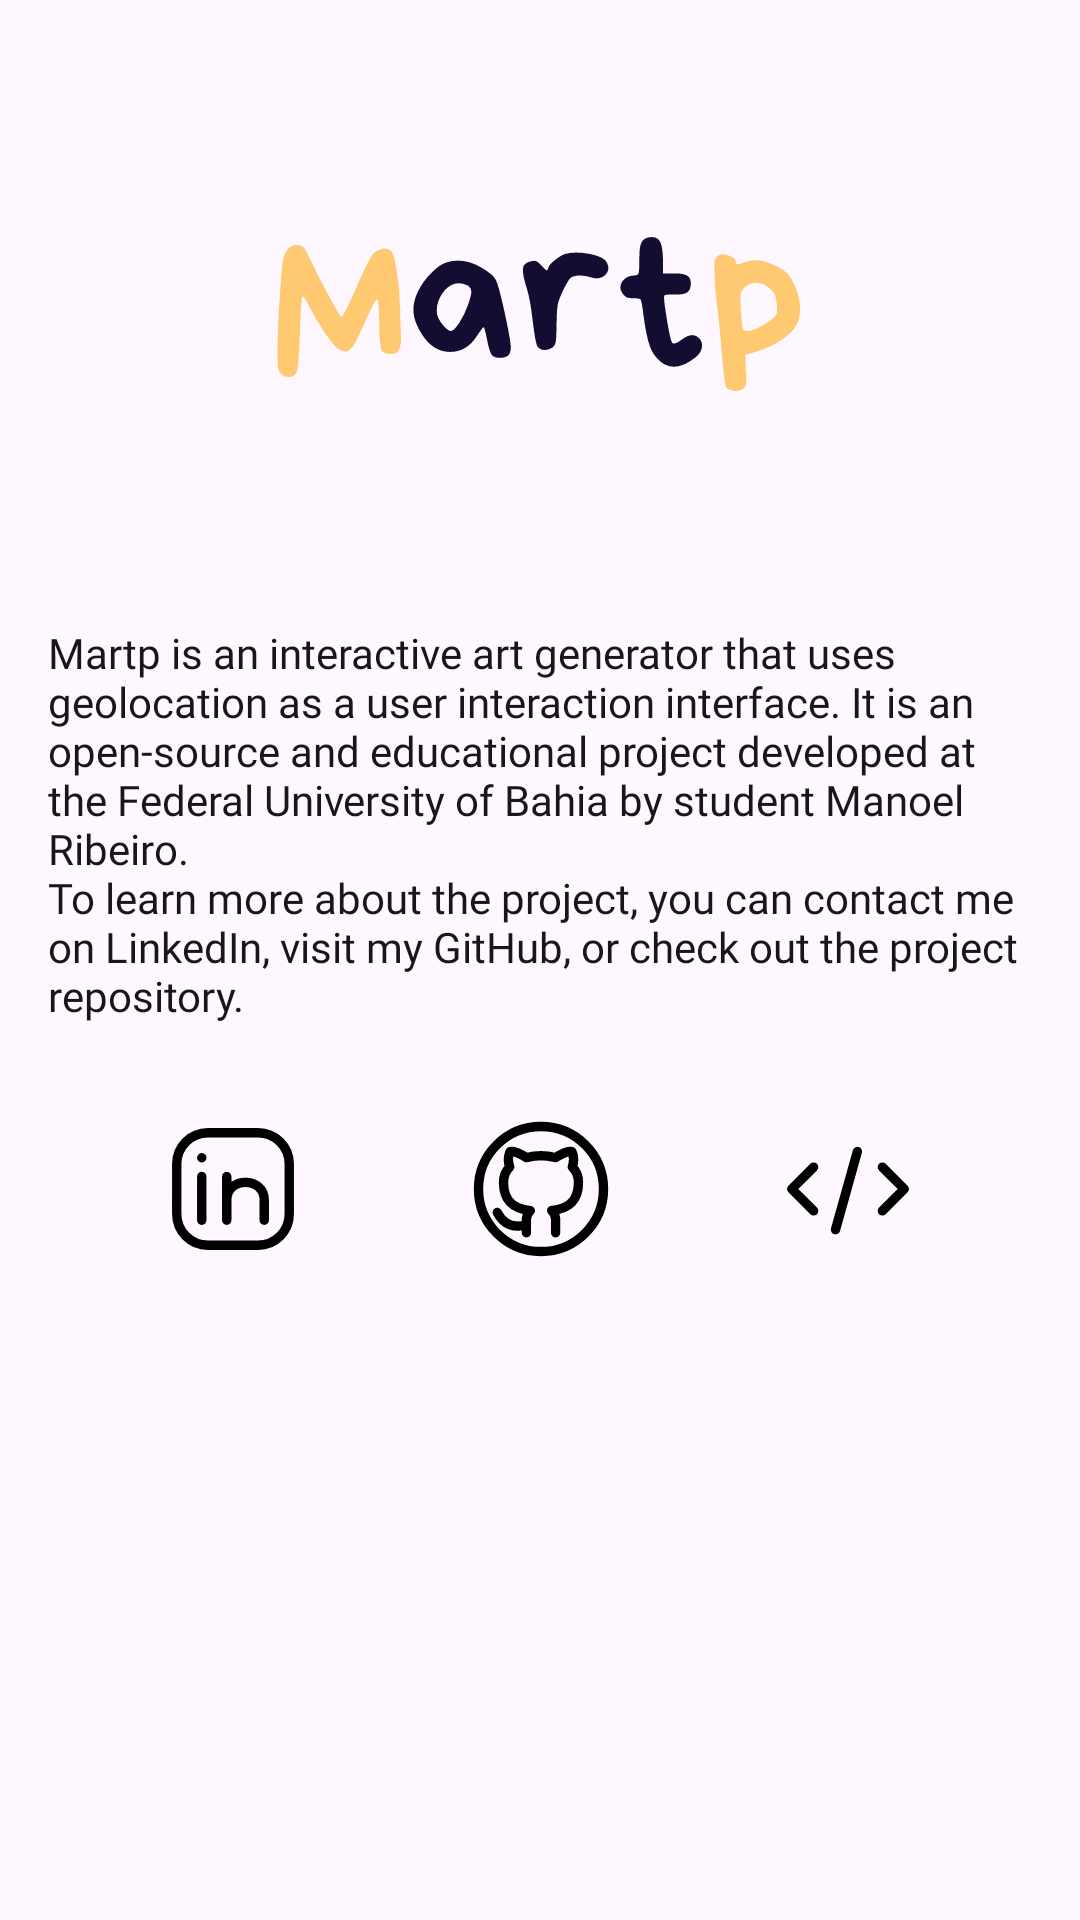

Named icons in this screenshot (1080w x 1920h) and their bounding boxes, bbox(x1, y1, x2, y2):
code base: bbox(787, 1146, 909, 1235)
